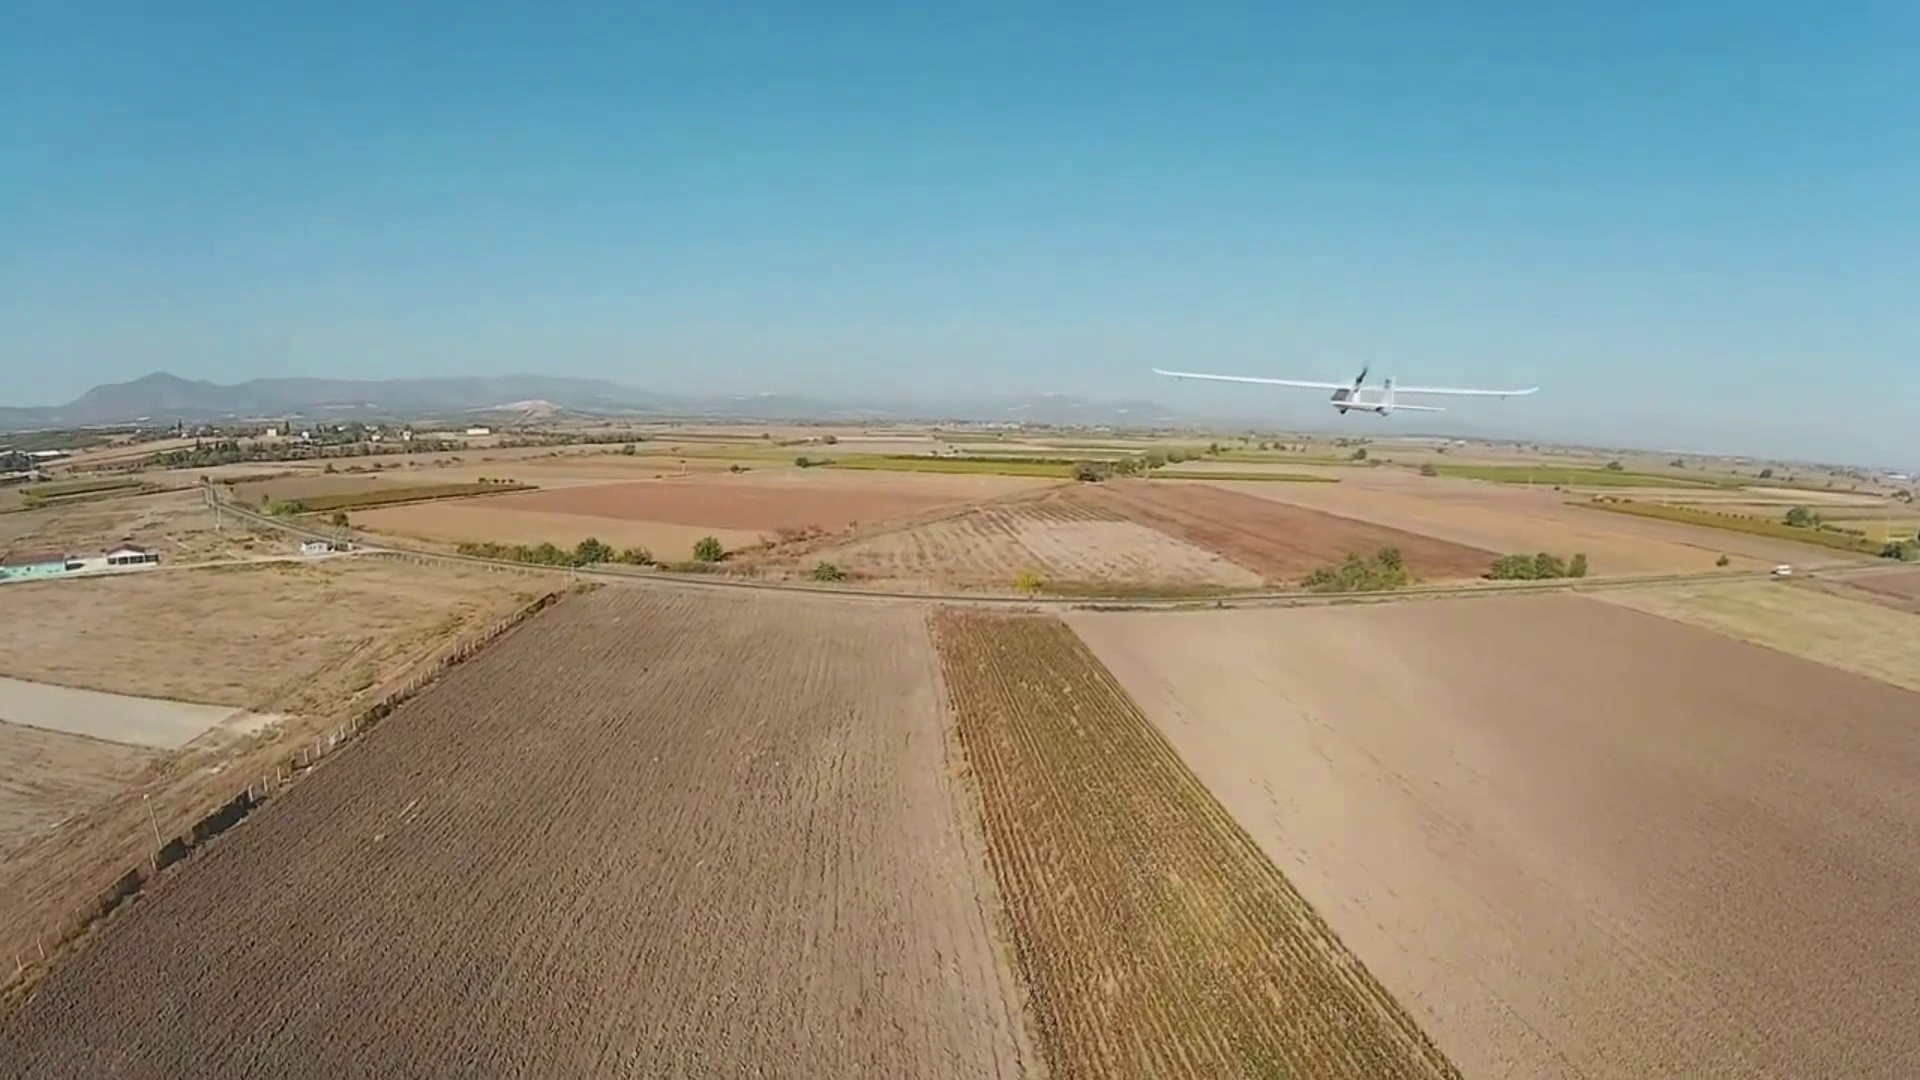airplane: (1153, 357, 1542, 418)
